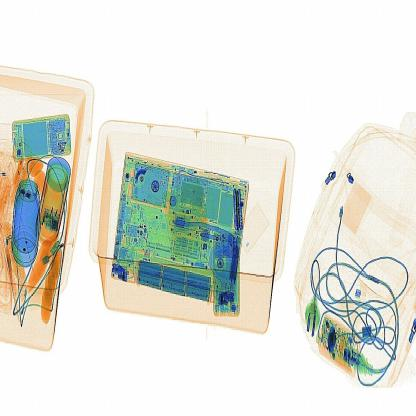scissors: (232, 187, 244, 233)
